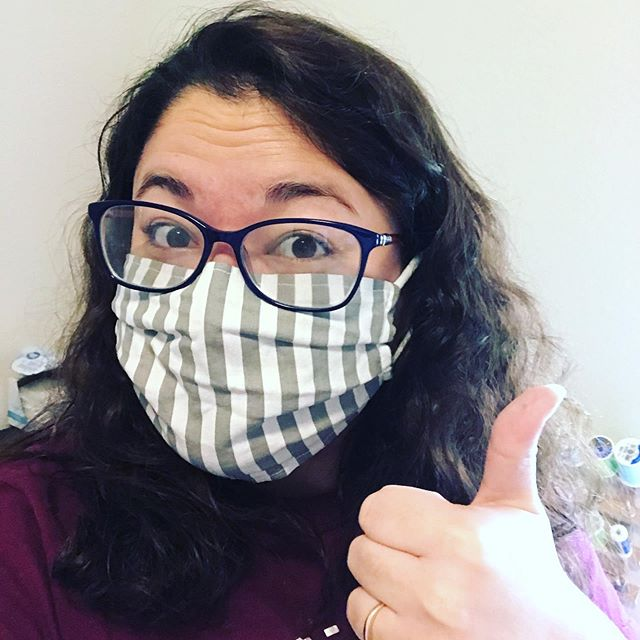homemade: (105, 248, 403, 486)
